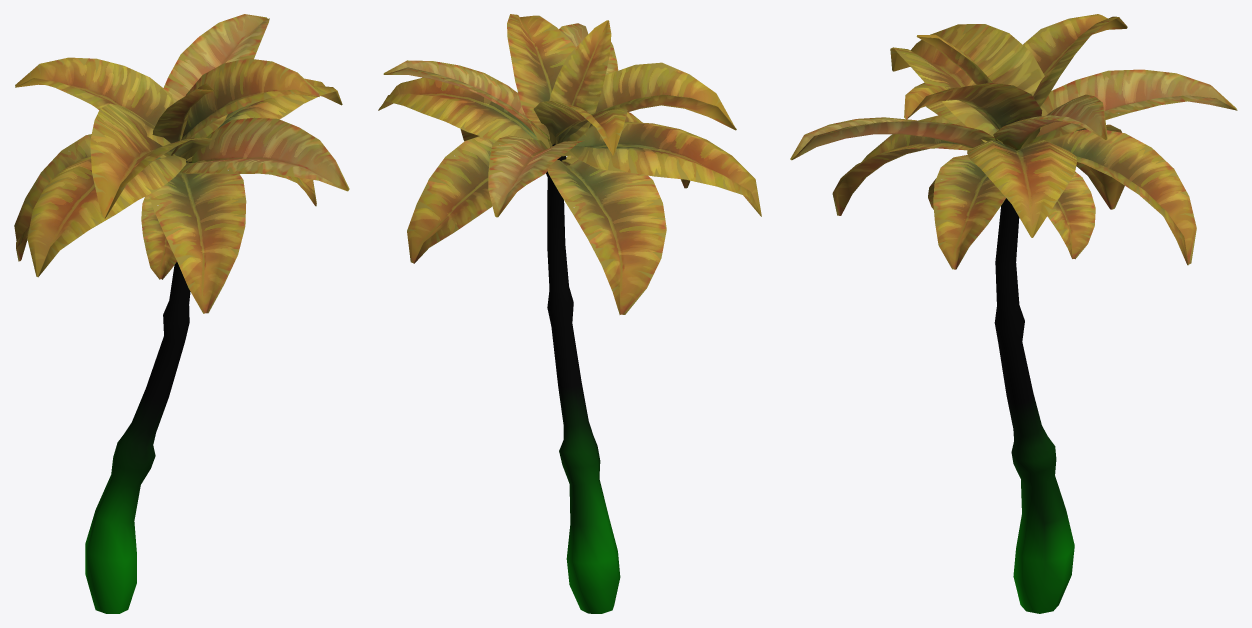
Rendered from P_DesertPalmTree01.obj.
3 renders of one model, left to right at view 1: azimuth 30°, elevation 25°; view 2: azimuth 150°, elevation 25°; view 3: azimuth 270°, elevation 25°, orthographic. The views are drawn at different scales.
Size of the model in its own units: 6.77 by 10.16 by 6.93.
